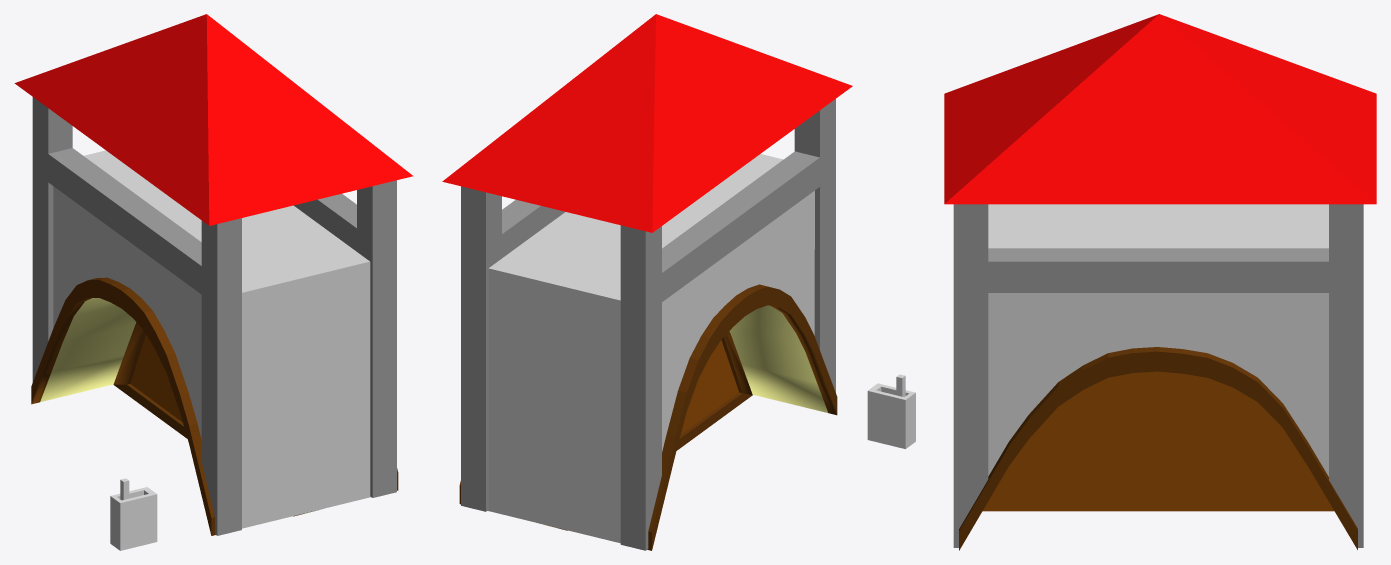
The model's file is Central_tower.fbx.
The picture shows the model from 3 angles, left to right: view 1: azimuth 30°, elevation 25°; view 2: azimuth 150°, elevation 25°; view 3: azimuth 270°, elevation 25°; orthographic projection. The views are drawn at different scales.
Parts seen in each view (by area): view 1: Cube, Roof, Beam.003, Beam.002, Beam._hor, Door_frame2, Beam, Door, Door_mechanism, Beam._hor.001; view 2: Cube, Roof, Beam, Beam.001, Beam._hor, Door_frame2, Beam.003, Door, Door_mechanism, Beam._hor.001; view 3: Roof, Cube, Door, Beam._hor.001, Beam.002, Beam.001, Door_frame.
Part boxes in pixels (left/top/right/bottom): Cube: left=40, top=150, right=370, bottom=528; Roof: left=14, top=14, right=413, bottom=225; Beam.003: left=201, top=218, right=241, bottom=535; Beam.002: left=357, top=180, right=396, bottom=497; Beam._hor: left=44, top=148, right=207, bottom=296; Door_frame2: left=31, top=277, right=215, bottom=535; Beam: left=32, top=97, right=72, bottom=382; Door: left=113, top=322, right=318, bottom=516; Door_mechanism: left=110, top=487, right=157, bottom=550; Beam._hor.001: left=294, top=193, right=362, bottom=251; Cube: left=487, top=154, right=827, bottom=543; Roof: left=442, top=14, right=852, bottom=232; Beam: left=620, top=225, right=661, bottom=550; Beam.001: left=461, top=186, right=501, bottom=511; Beam._hor: left=657, top=151, right=826, bottom=303; Door_frame2: left=647, top=284, right=837, bottom=550; Beam.003: left=794, top=99, right=835, bottom=392; Door: left=545, top=331, right=752, bottom=530; Door_mechanism: left=867, top=383, right=915, bottom=448; Beam._hor.001: left=498, top=200, right=565, bottom=257; Roof: left=944, top=14, right=1376, bottom=204; Cube: left=988, top=204, right=1328, bottom=476; Door: left=983, top=371, right=1333, bottom=511; Beam._hor.001: left=975, top=248, right=1337, bottom=292; Beam.002: left=953, top=204, right=988, bottom=547; Beam.001: left=1329, top=204, right=1363, bottom=547; Door_frame: left=959, top=347, right=1357, bottom=550.
Size of the model in its own units: 810 by 1207 by 979.
